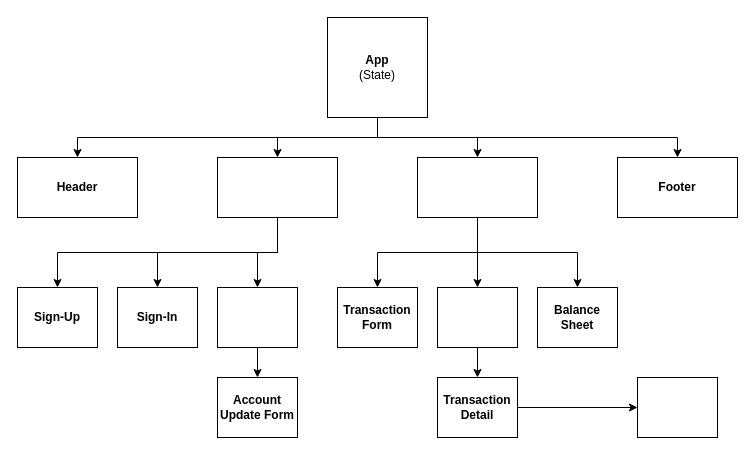
Some shapes in this 755 by 455 pixel diagram are drawn without their labels. Each missing label, with the box of its shape:
Account Information: (216, 286, 298, 348)
All Transactions: (436, 286, 518, 348)
Home (Props): (416, 156, 538, 218)
Transaction Update Form: (636, 376, 718, 438)
User (Props): (216, 156, 338, 218)
